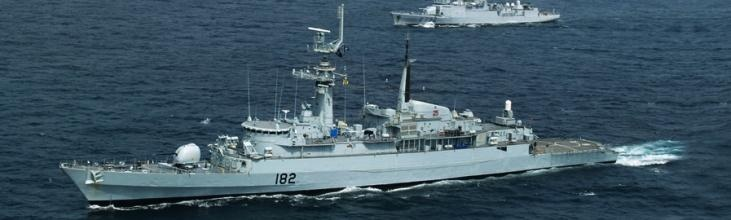warship: (57, 29, 623, 209), (384, 1, 566, 29)
